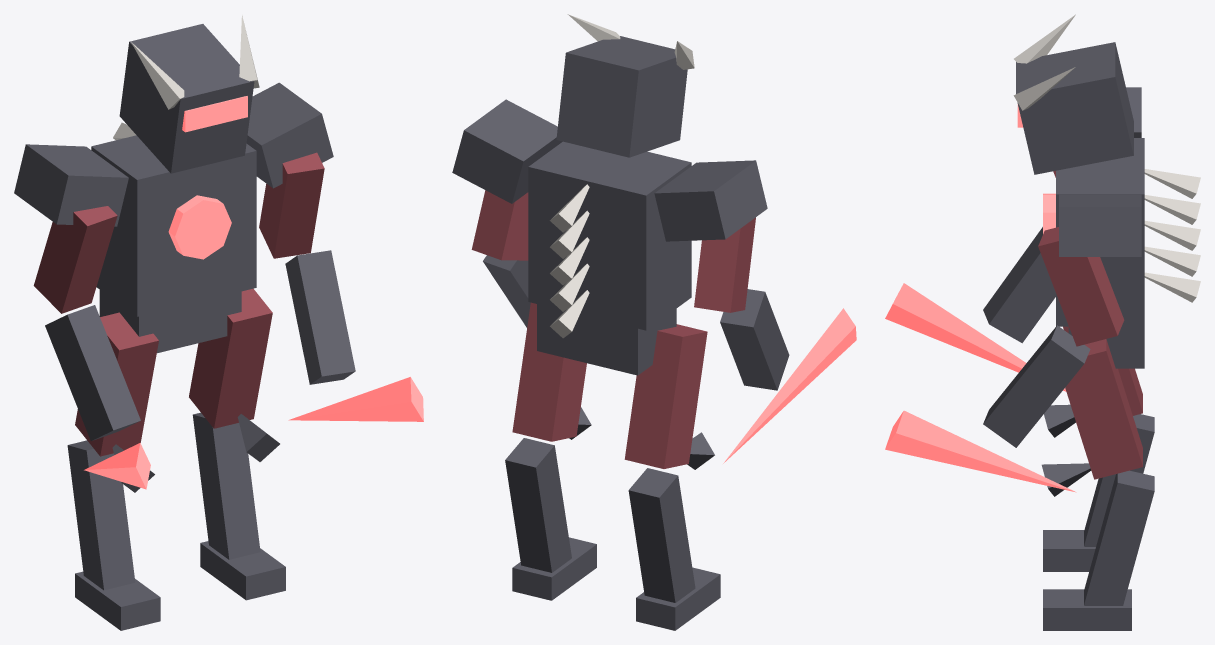
Rendered from husk.glb.
3 views of the same model, side by side, from view 1: azimuth 30°, elevation 25°; view 2: azimuth 150°, elevation 25°; view 3: azimuth 270°, elevation 25° (orthographic). The views are drawn at different scales.
Visible parts, largest first — view 1: Husk; view 2: Husk; view 3: Husk.
Boxes of the visible parts, box(x1,y1,x2,y2) form: Husk: box(14, 15, 423, 630); Husk: box(452, 14, 856, 630); Husk: box(885, 14, 1200, 630).
Bounding box in the file's own units: 1.01 × 1.92 × 0.9949.
